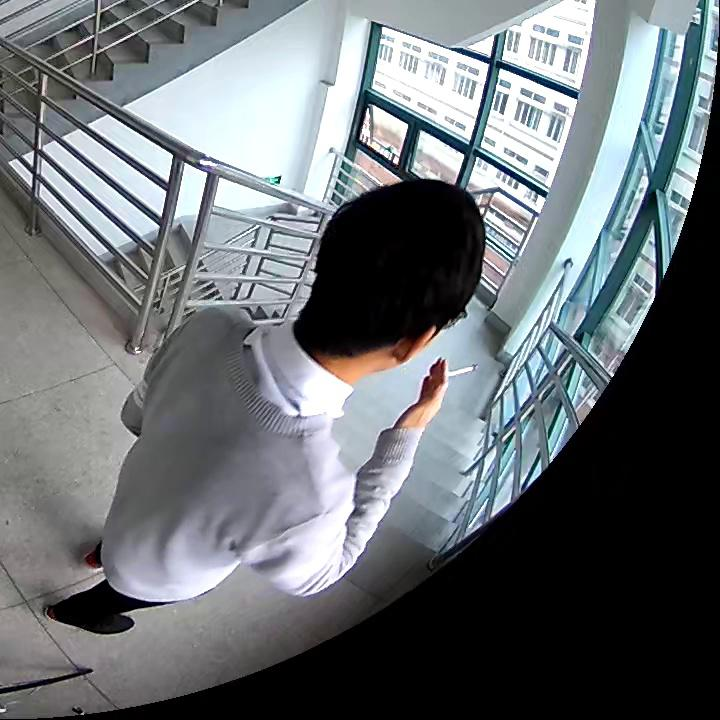mouthsmoke: (313, 182, 479, 375)
